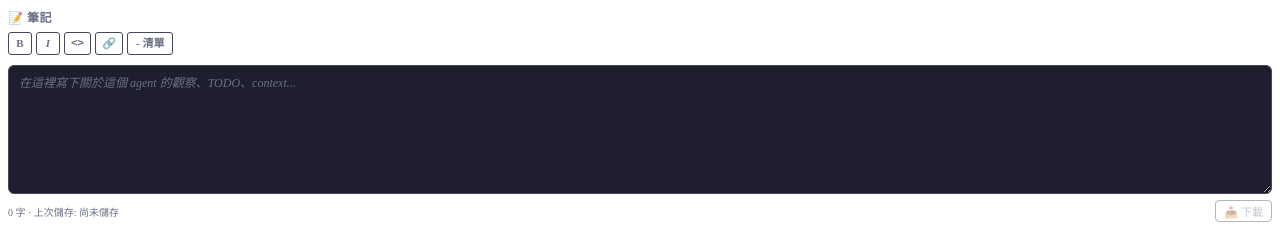
it: AgentNotes › clicking B wraps selected text in ** bold markers **
# Set textarea content and simulate a selection
Type "hello world" into the text box with placeholder "在這裡寫下關於這個 agent 的觀察、TODO、context...".
click(640, 129); type("hello world")  # box [8,64,1272,194]
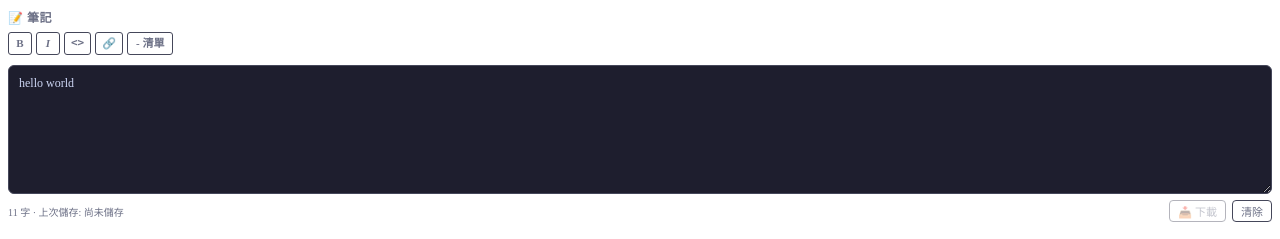
# Click bold button
Click the button "B".
click(20, 43)  # box [8,32,32,54]
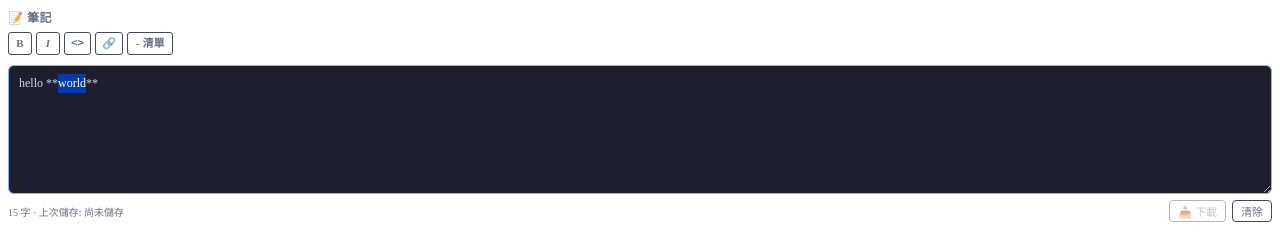
Expected: the text box holds "hello **world**", [8,64,1272,194]
